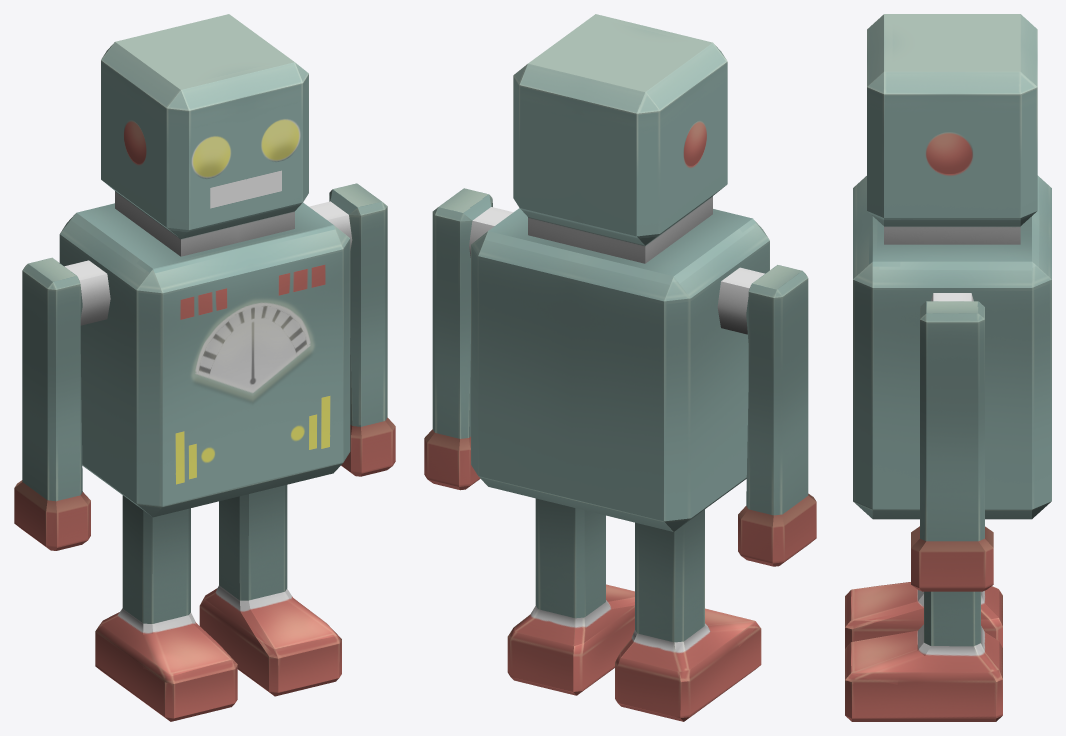
File: MD_Robot.fbx
3 views of the same model, side by side, from view 1: azimuth 30°, elevation 25°; view 2: azimuth 150°, elevation 25°; view 3: azimuth 270°, elevation 25° (orthographic). The views are drawn at different scales.
Visible parts, largest first — view 1: Robot; view 2: Robot; view 3: Robot.
Boxes of the visible parts, x1,y1,x2,y2 form: Robot: (14,14,395,721); Robot: (424,14,816,721); Robot: (845,14,1051,721).
Size of the model in its own units: 14.72 by 24.72 by 7.27.
